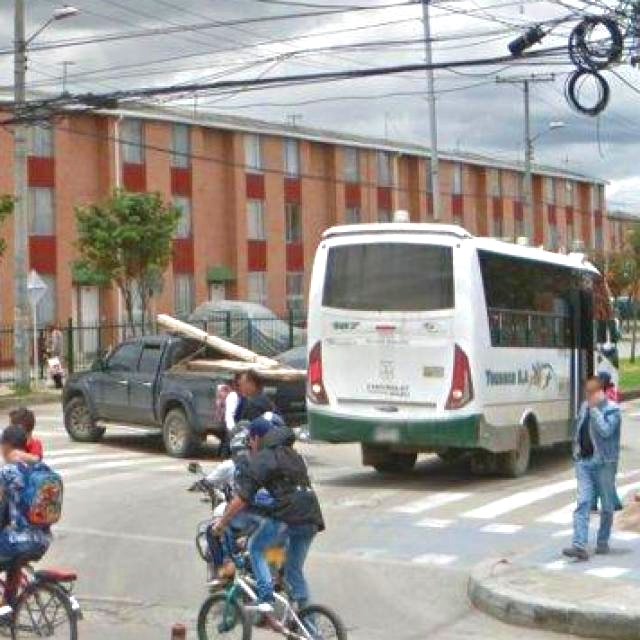bicycle: (165, 525, 343, 640), (8, 553, 124, 637)
bus: (308, 182, 632, 486)
car: (47, 298, 329, 475)
